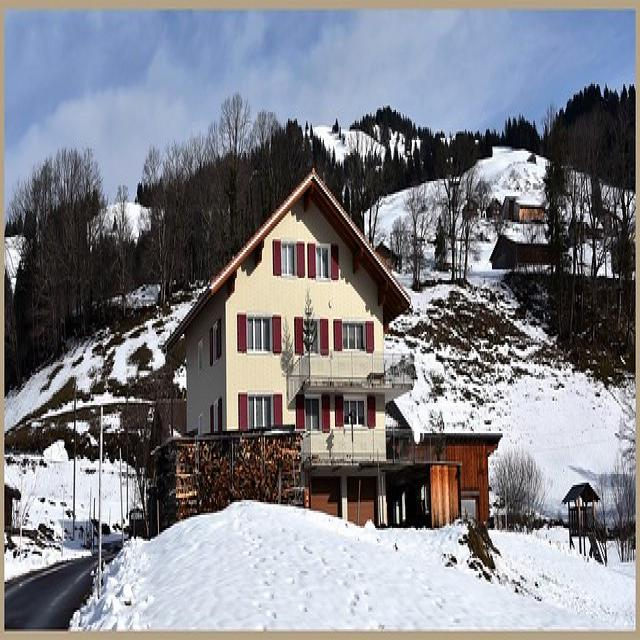Normal_building: (158, 174, 498, 541)
